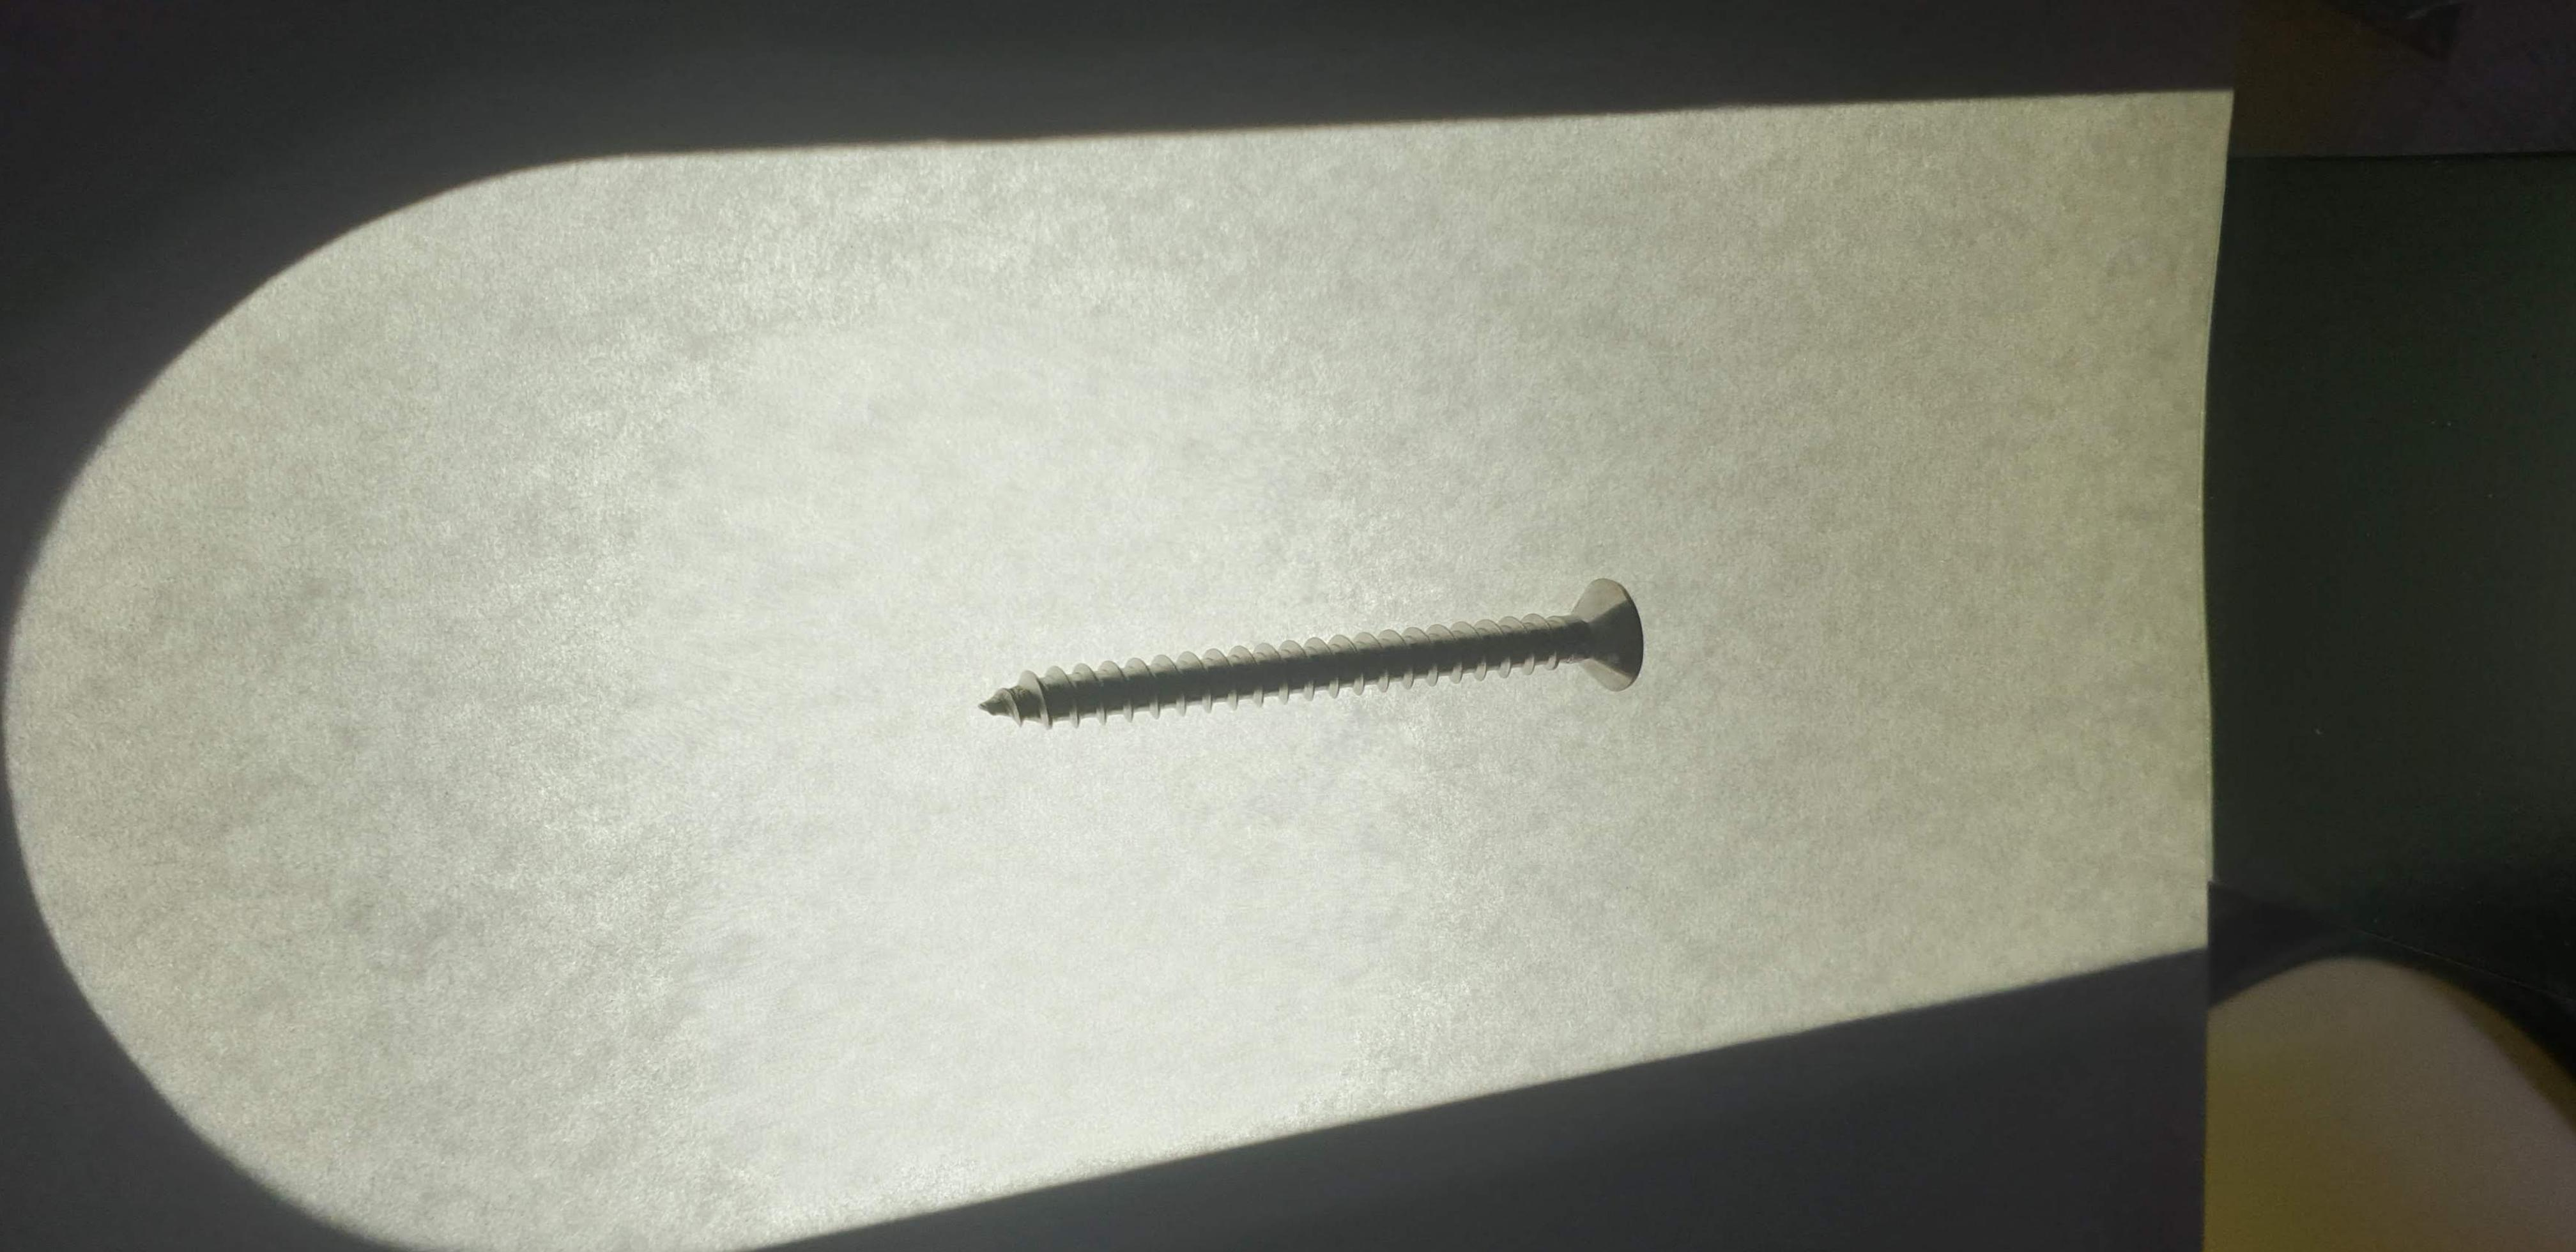S001: (950, 559, 1705, 780)
